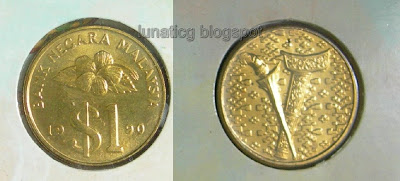1r: (19, 22, 170, 170), (214, 22, 361, 170)
